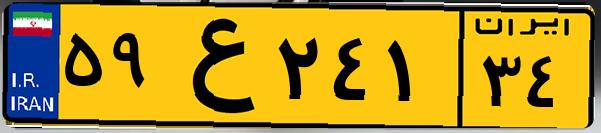1: (385, 28, 445, 110)
2: (270, 28, 330, 110)
3: (475, 38, 525, 113)
4: (330, 28, 385, 110), (525, 38, 570, 115)
5: (57, 26, 110, 100)
9: (110, 28, 158, 98)
ع: (158, 12, 270, 120)
